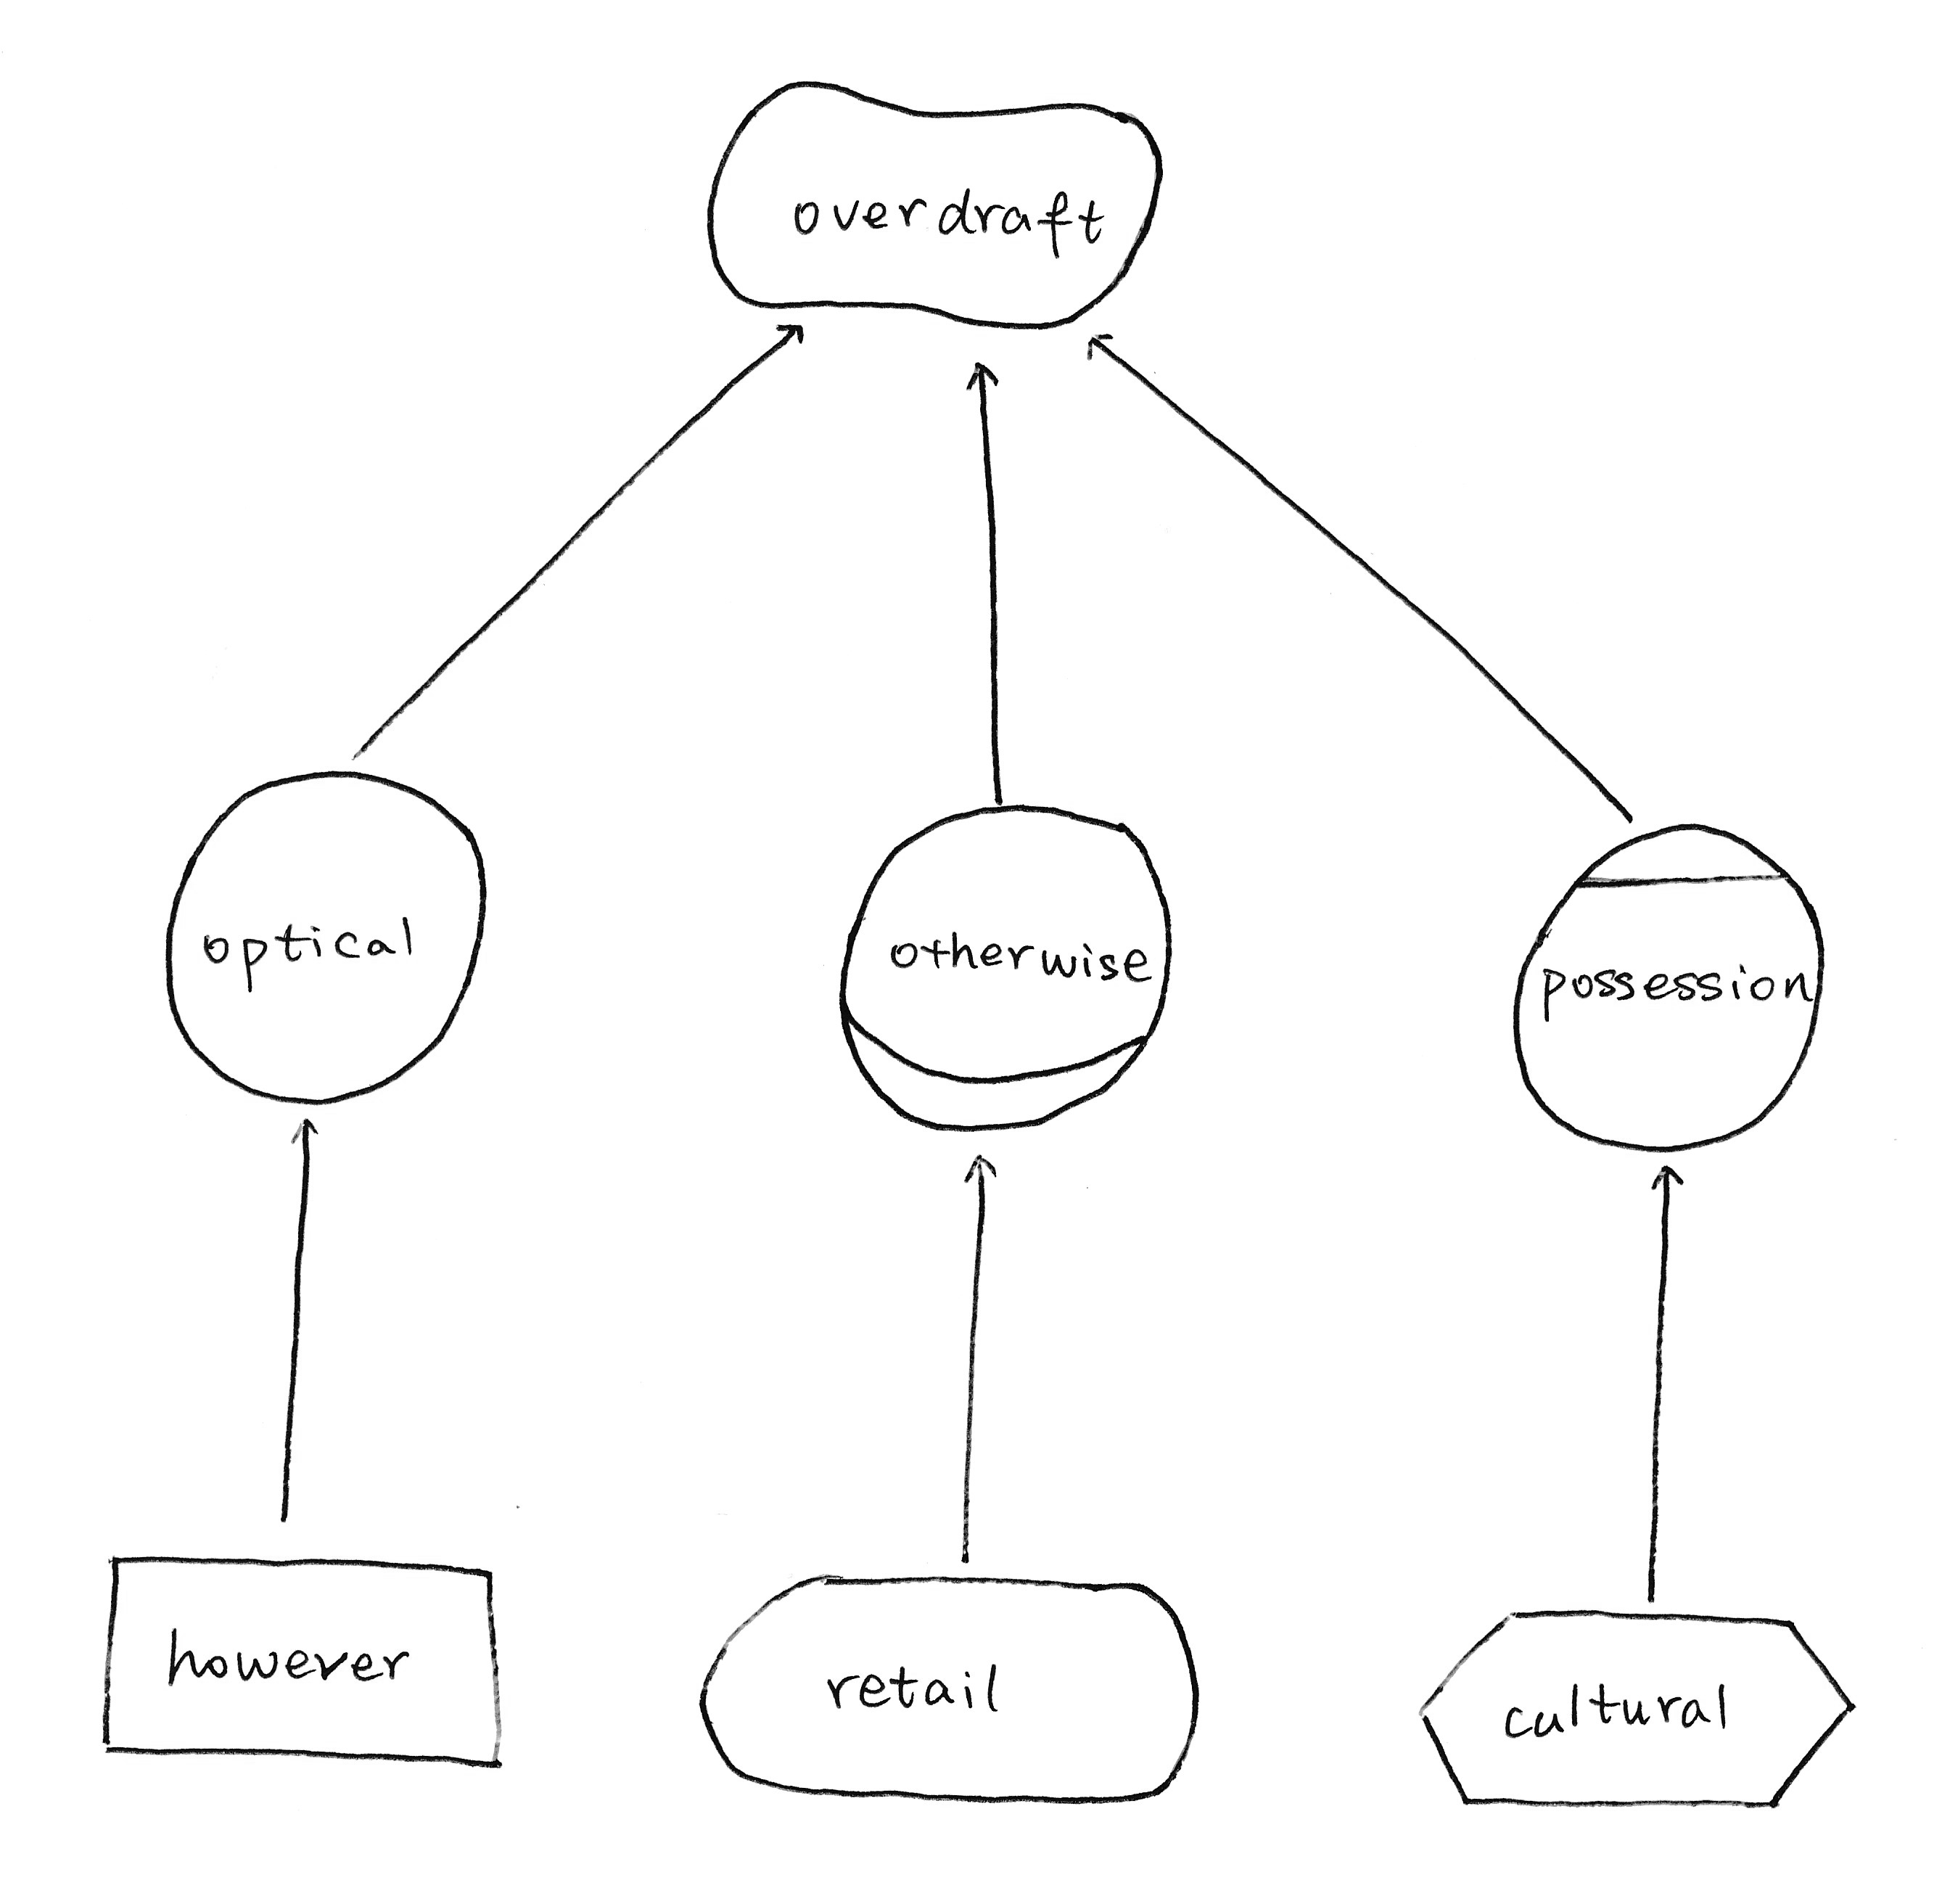actor: (140, 747, 512, 1126)
agent: (1479, 806, 1851, 1178)
arrow: (746, 301, 832, 376), (941, 1138, 1023, 1206), (262, 1105, 355, 1157), (1068, 316, 1143, 378), (948, 346, 1009, 416), (1629, 1143, 1692, 1206)
goal: (664, 1553, 1232, 1822)
quality: (675, 54, 1199, 364)
resource: (68, 1533, 537, 1797)
role: (809, 782, 1208, 1157)
task: (1392, 1584, 1872, 1829)
